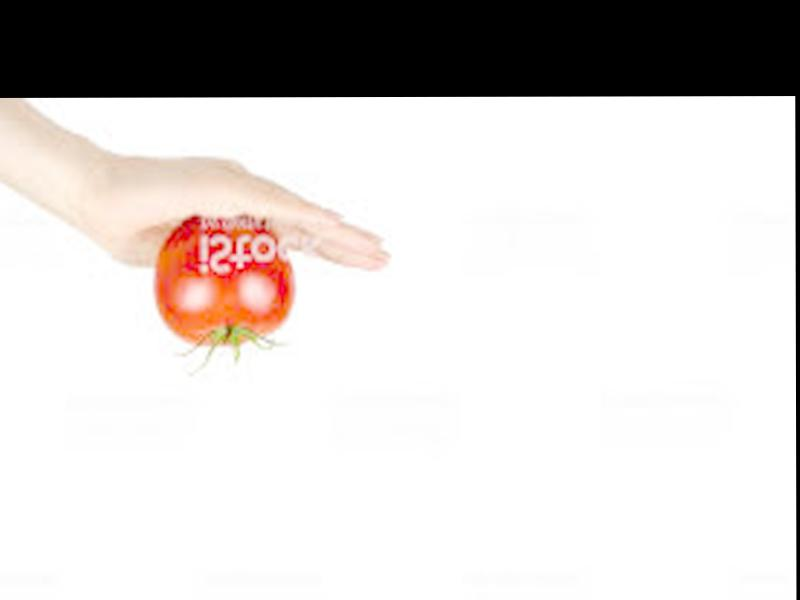Tomato: (153, 218, 293, 349)
